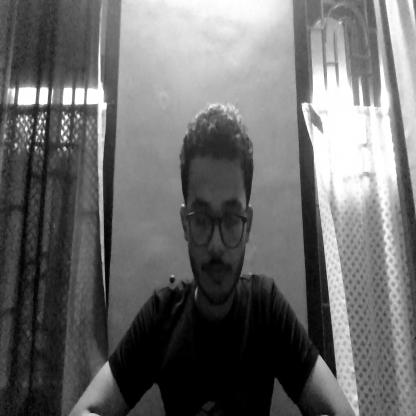Normal: (172, 104, 265, 324)
